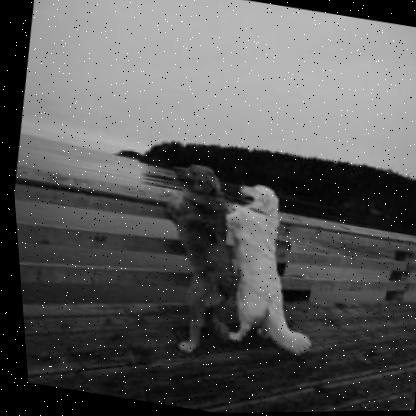dog: (134, 157, 262, 360), (199, 177, 338, 360)
